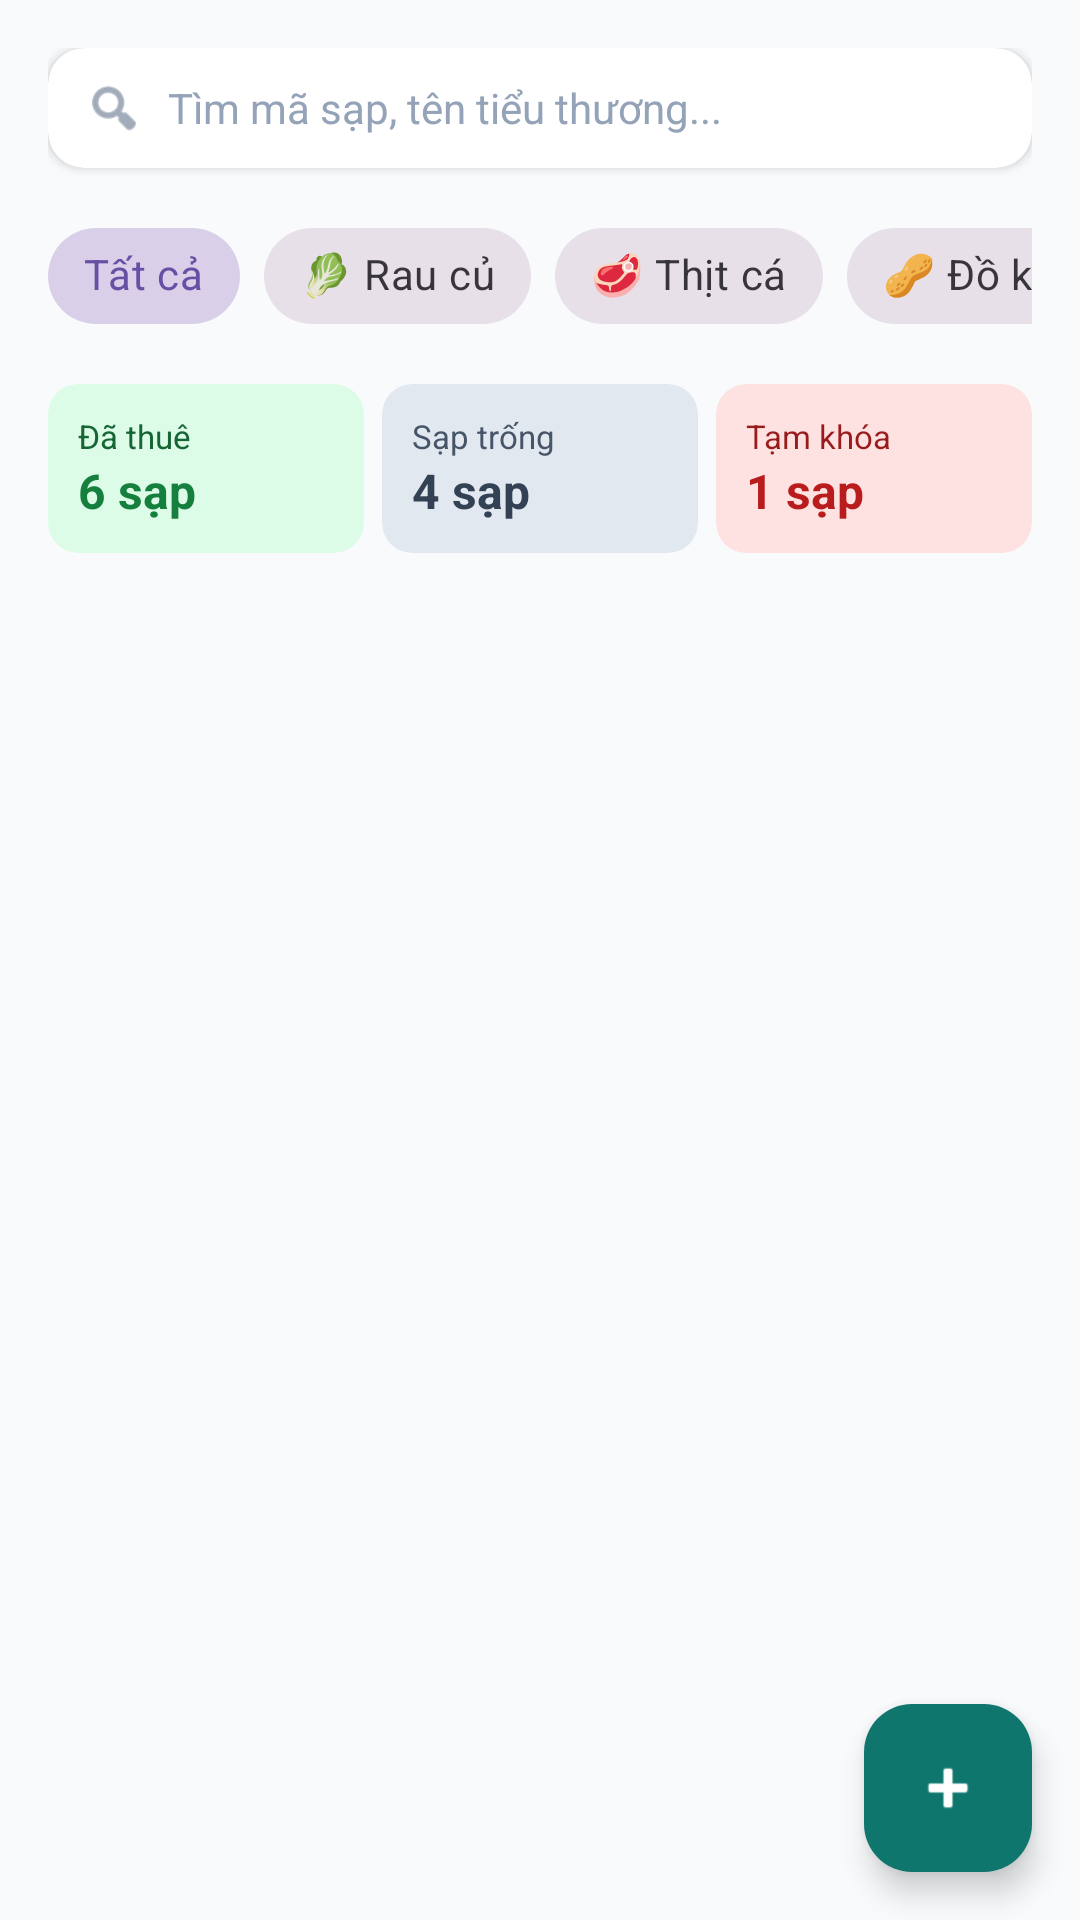

Screen size 1080×1920. Icon name, then its center in pixels as [x,y]:
add: [948,1788]
search: [114,108]
